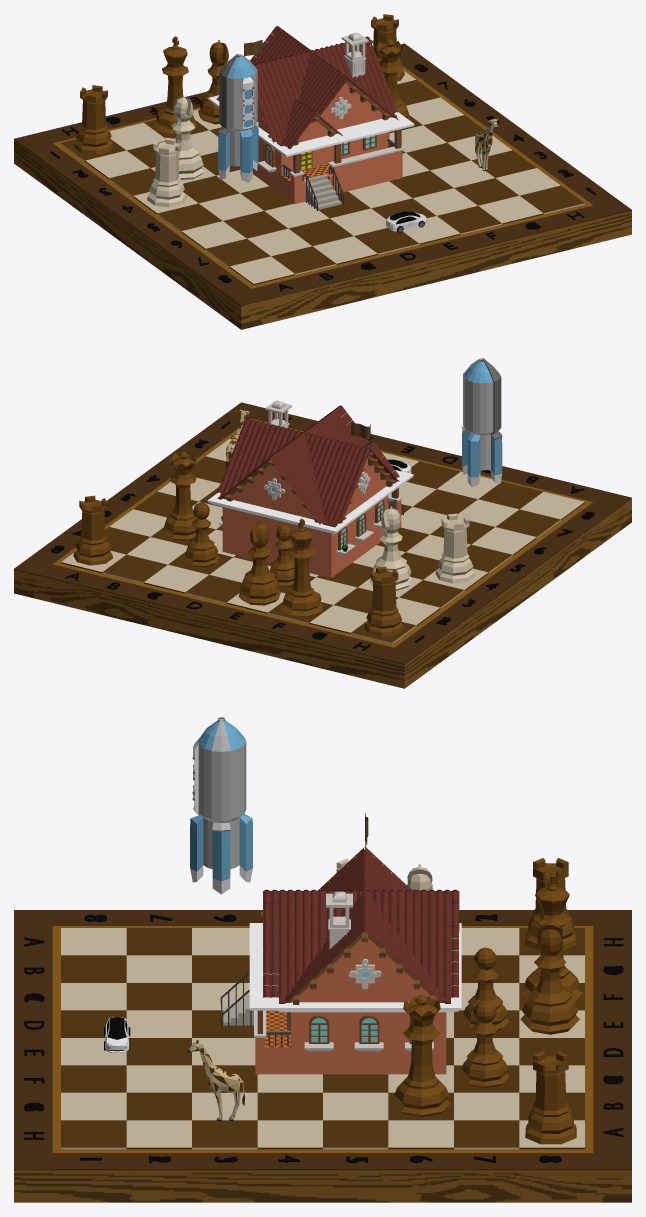
3 renders of one model, top to bottom at view 1: azimuth 30°, elevation 25°; view 2: azimuth 150°, elevation 25°; view 3: azimuth 270°, elevation 25°, orthographic. The views are drawn at different scales.
Parts seen in each view (by area): view 1: Cube.002, Cube.1141, OBJRANDOM_ROCKETSHIP, ANIMAL_JIRAFA, VEHICLES_TESLA; view 2: Cube.002, Cube.1141, OBJRANDOM_ROCKETSHIP; view 3: Cube.002, Cube.1141, OBJRANDOM_ROCKETSHIP, ANIMAL_JIRAFA, VEHICLES_TESLA.
Part boxes in pixels (x1,y1,x2,y2): Cube.002: [14, 14, 631, 329]; Cube.1141: [208, 26, 414, 210]; OBJRANDOM_ROCKETSHIP: [218, 54, 258, 182]; ANIMAL_JIRAFA: [475, 117, 498, 171]; VEHICLES_TESLA: [386, 211, 426, 232]; Cube.002: [14, 402, 631, 688]; Cube.1141: [207, 400, 413, 577]; OBJRANDOM_ROCKETSHIP: [461, 358, 502, 487]; Cube.002: [14, 858, 631, 1202]; Cube.1141: [220, 813, 461, 1074]; OBJRANDOM_ROCKETSHIP: [190, 717, 252, 894]; ANIMAL_JIRAFA: [187, 1040, 244, 1121]; VEHICLES_TESLA: [104, 1017, 130, 1052].
Bounding box in the file's own units: 3981 × 2014 × 4012.
Materials: 46 (2 with a texture image).
